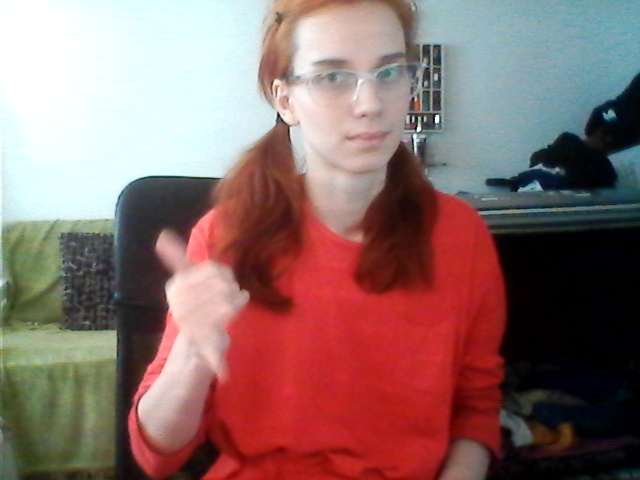ano: (130, 229, 262, 388)
